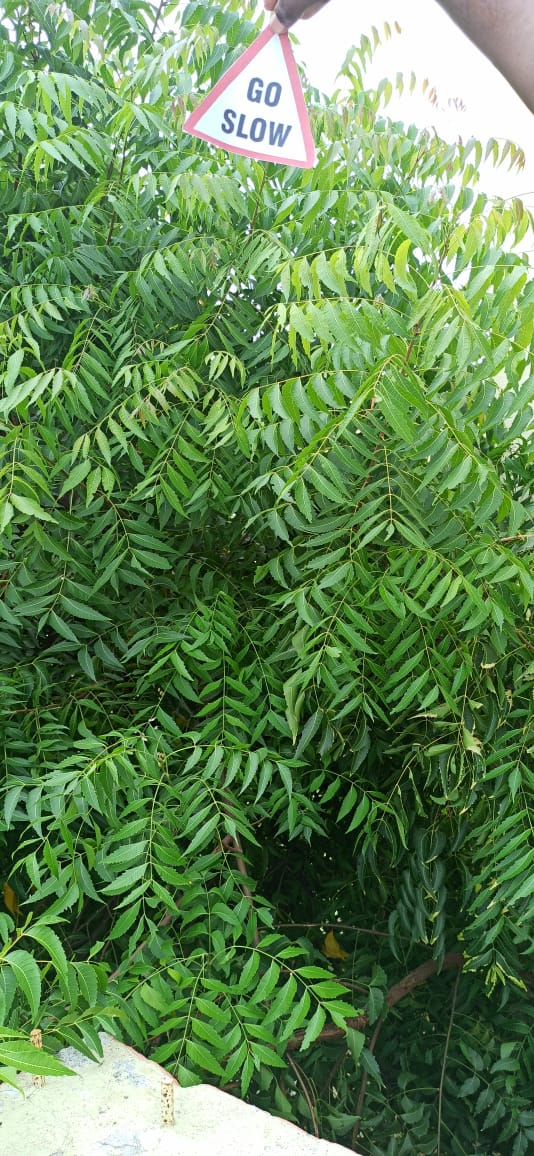GO SLOW: (194, 5, 337, 172)
